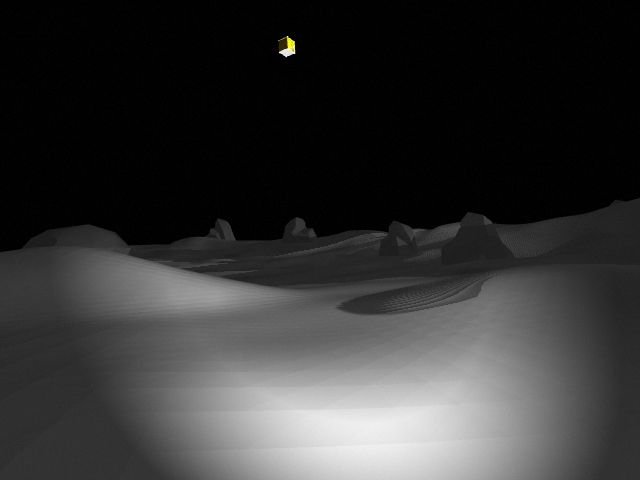cubesat: (271, 32, 299, 60)
